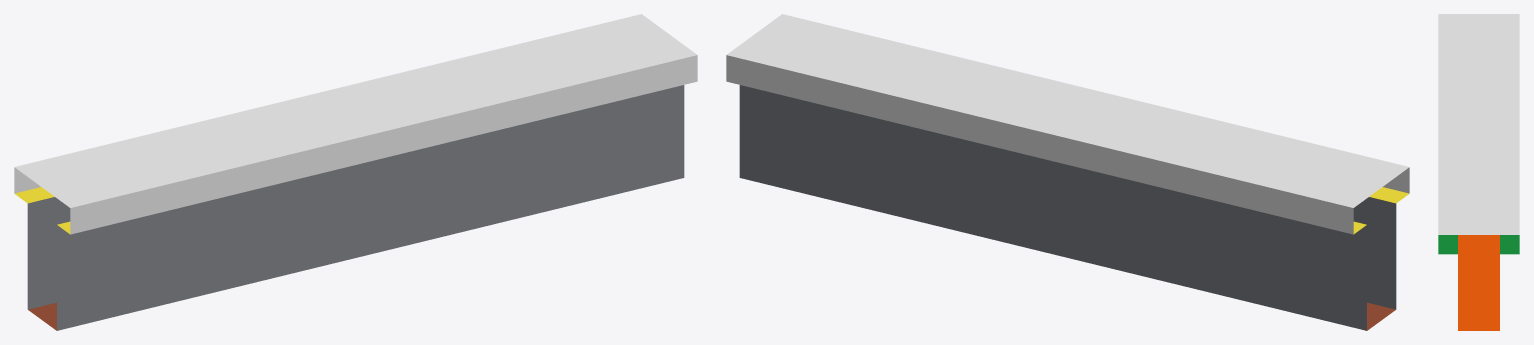
File: Platform3.fbx
3 views of the same model, side by side, from view 1: azimuth 30°, elevation 25°; view 2: azimuth 150°, elevation 25°; view 3: azimuth 270°, elevation 25° (orthographic). The views are drawn at different scales.
Parts seen in each view (by area): view 1: Cube.010; view 2: Cube.010; view 3: Cube.010.
Boxes of the visible parts, <box> form: Cube.010: <box>14,14,697,330</box>; Cube.010: <box>726,14,1409,330</box>; Cube.010: <box>1438,14,1519,330</box>.
Bounding box in the file's own units: 50.01 × 10.11 × 7.74.
